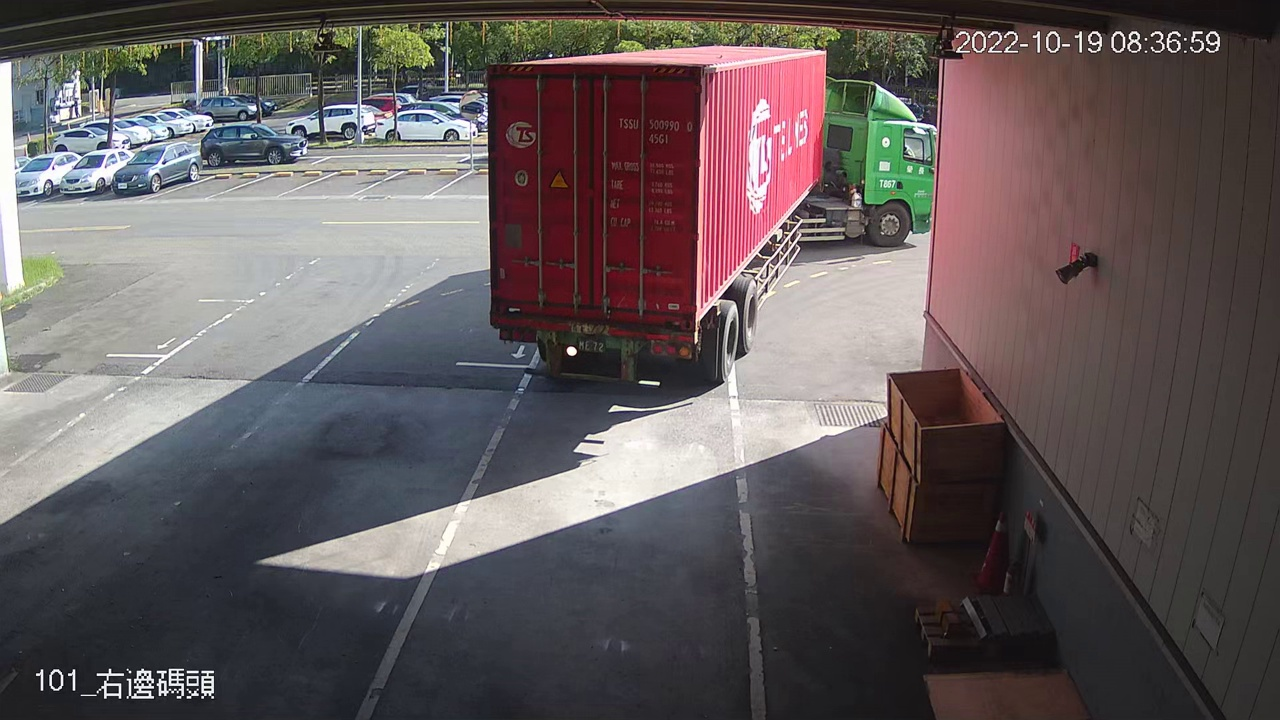container: (615, 111, 697, 148)
